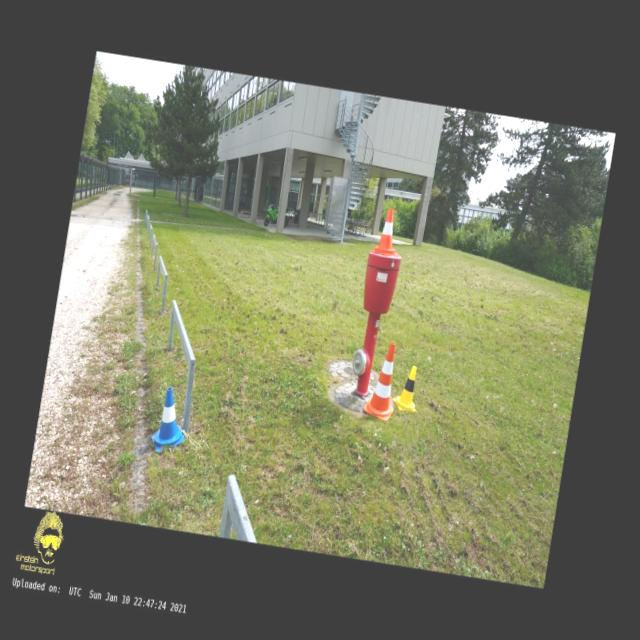blue_cone: (150, 386, 192, 456)
large_orange_cone: (362, 339, 404, 421)
orange_cone: (374, 207, 401, 256)
yellow_cone: (391, 364, 424, 414)
